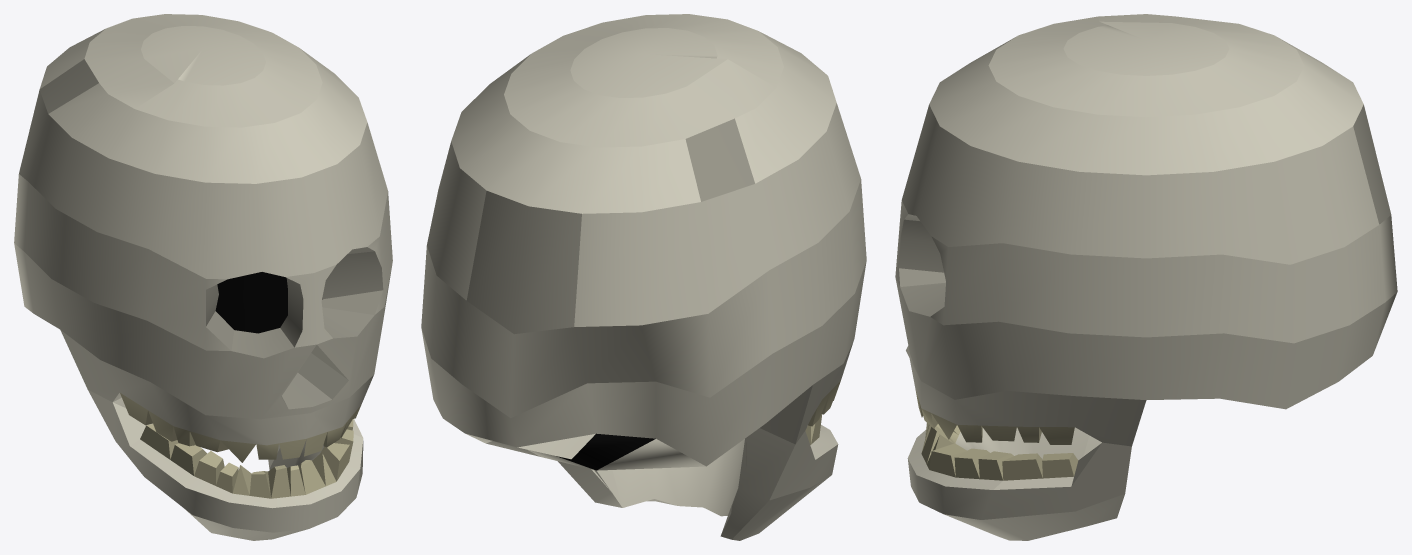
File: Skull.fbx
3 views of the same model, side by side, from view 1: azimuth 30°, elevation 25°; view 2: azimuth 150°, elevation 25°; view 3: azimuth 270°, elevation 25° (orthographic). The views are drawn at different scales.
Visible parts, largest first — view 1: polySurface2; view 2: polySurface2; view 3: polySurface2.
Part boxes in pixels (x1,y1,x2,y2): polySurface2: (14,14,392,540); polySurface2: (421,14,866,540); polySurface2: (895,14,1397,540).
Bounding box in the file's own units: 3.34 × 4.63 × 4.32.
